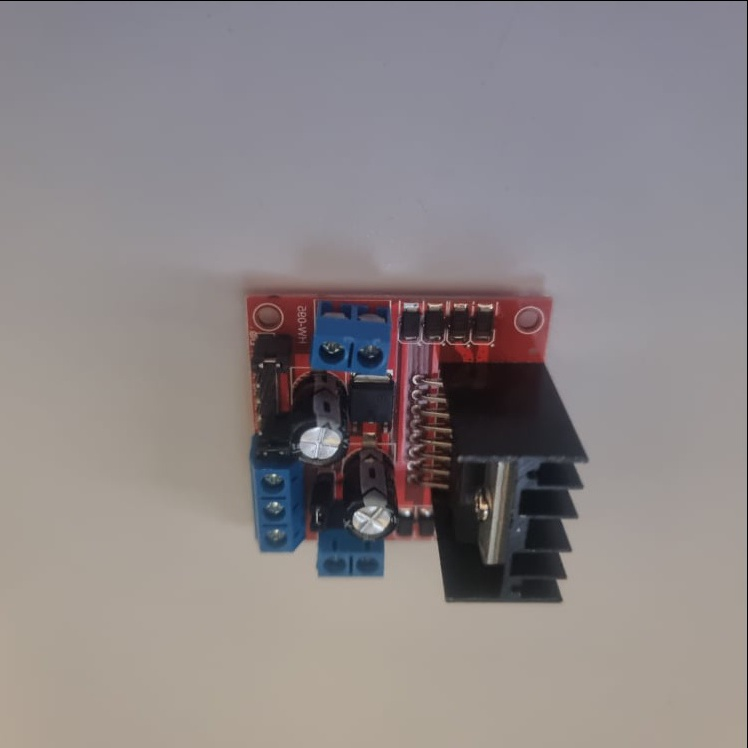MOTOR: (246, 291, 590, 606)
